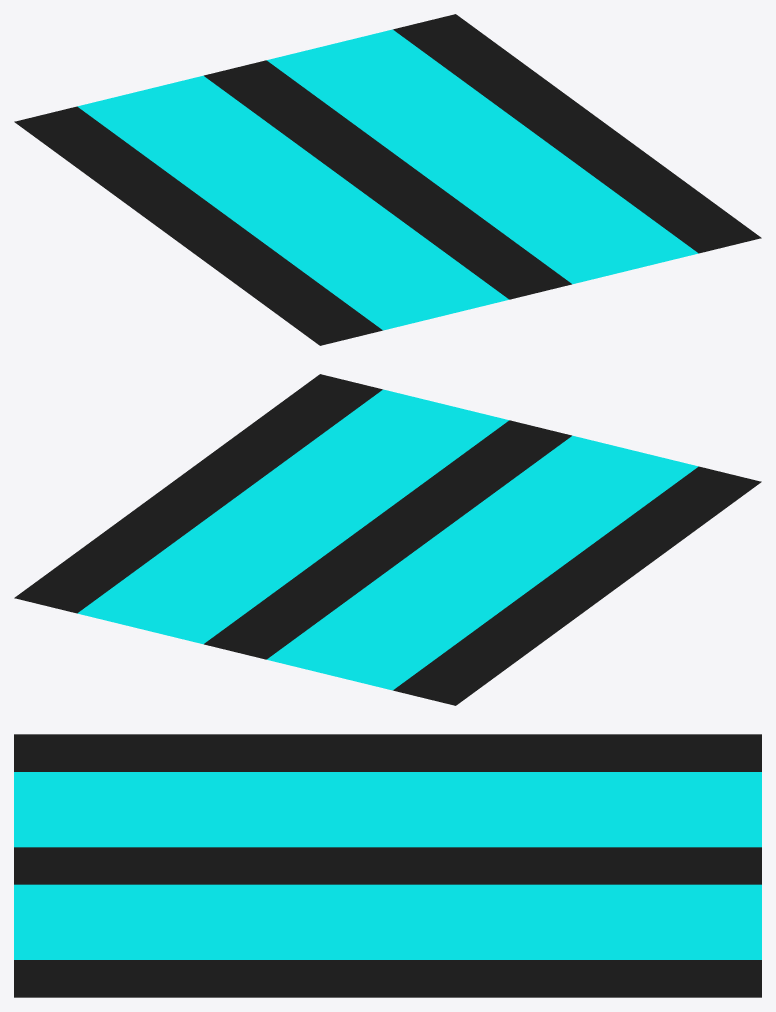
File: RaceTrack_Straight_6m 1.fbx
3 views of the same model, one above another, from view 1: azimuth 30°, elevation 25°; view 2: azimuth 150°, elevation 25°; view 3: azimuth 270°, elevation 25° (orthographic). The views are drawn at different scales.
Parts seen in each view (by area): view 1: Straight_6m; view 2: Straight_6m; view 3: Straight_6m.
Part boxes in pixels (left/top/right/bottom): Straight_6m: left=14, top=14, right=761, bottom=345; Straight_6m: left=14, top=374, right=761, bottom=705; Straight_6m: left=14, top=734, right=761, bottom=997.
Bounding box in the file's own units: 5 × 5.25e-07 × 6.
